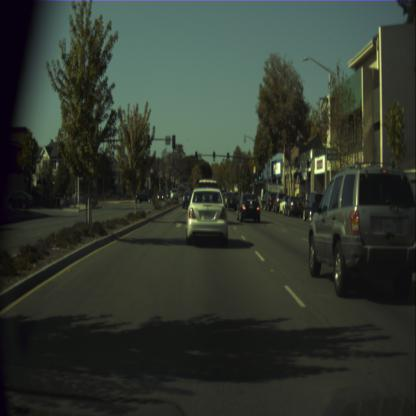Green: (212, 151, 216, 161), (226, 152, 230, 162), (194, 151, 198, 160), (258, 170, 260, 180), (254, 174, 256, 181)
